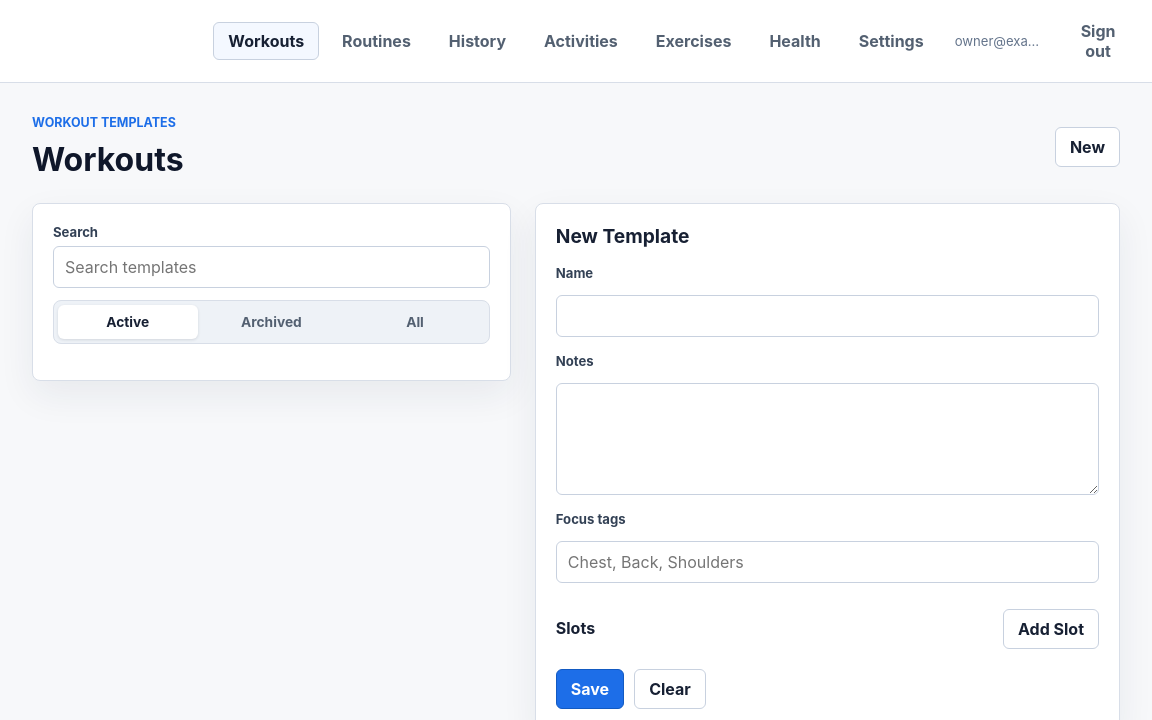
Test case: App › signs out of the browser session
What coordinates should you click on to do the following:
click the button "Sign out"
I would click on:
 (1098, 41)
Its box is [1060, 12, 1136, 70].
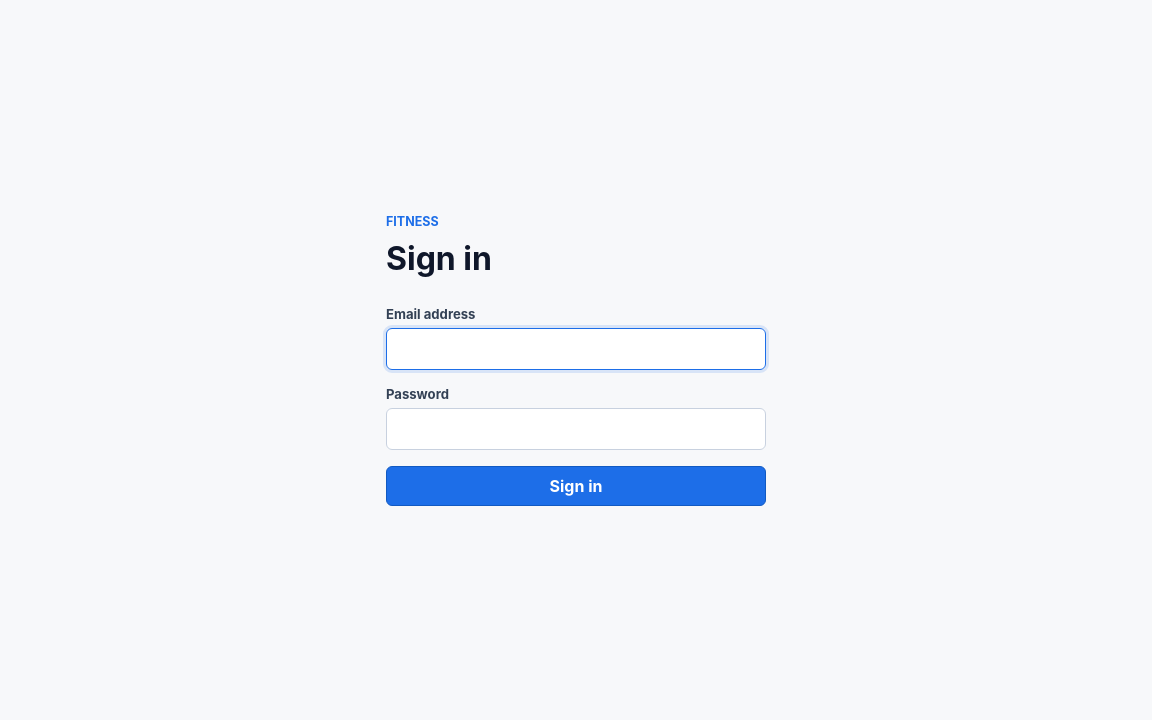
Expected: the heading "Sign in" is shown, [386, 239, 492, 278]
